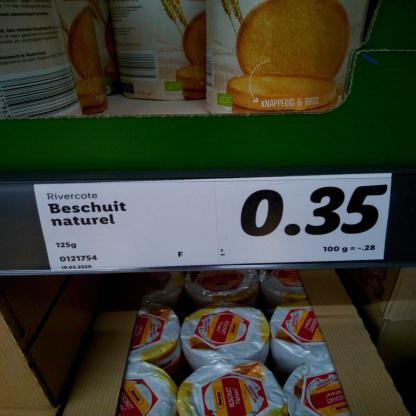prtg: (35, 174, 393, 272)
